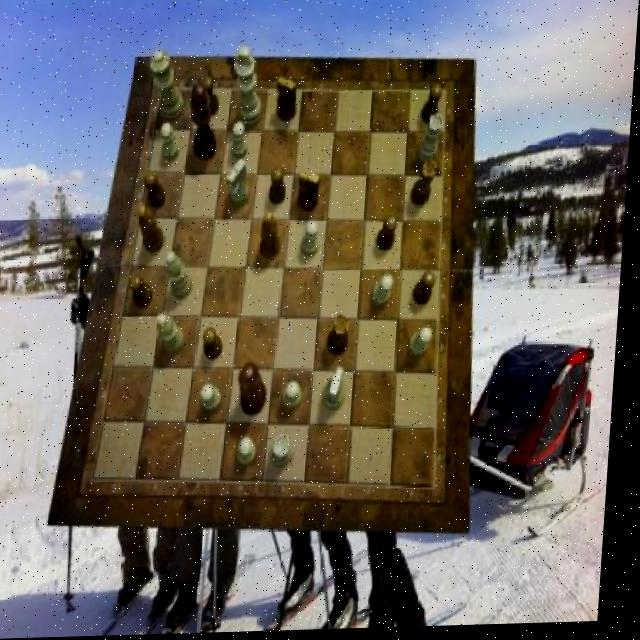bishop: (139, 205, 169, 255), (263, 213, 285, 261)
black-bishop: (190, 82, 222, 162)
black-king: (277, 78, 300, 124), (300, 173, 323, 214)
black-knight: (422, 88, 444, 129), (144, 173, 169, 209), (133, 274, 158, 309), (201, 78, 222, 117), (416, 273, 439, 308), (379, 218, 401, 253), (270, 168, 289, 206), (207, 330, 228, 362)
black-pawn: (240, 364, 273, 418)
black-queen: (413, 162, 439, 208), (331, 316, 354, 358)
black-rook: (167, 252, 199, 300), (160, 315, 189, 356)
white-bishop: (234, 47, 268, 130)
white-king: (227, 160, 253, 206), (326, 370, 351, 413)
white-knight: (412, 329, 438, 361), (161, 123, 182, 162), (375, 276, 398, 311), (304, 221, 323, 259), (232, 123, 250, 162), (205, 385, 228, 413), (287, 383, 307, 411), (244, 440, 263, 467)
white-pawn: (147, 51, 188, 123)
white-queen: (419, 116, 446, 166), (275, 435, 300, 470)
